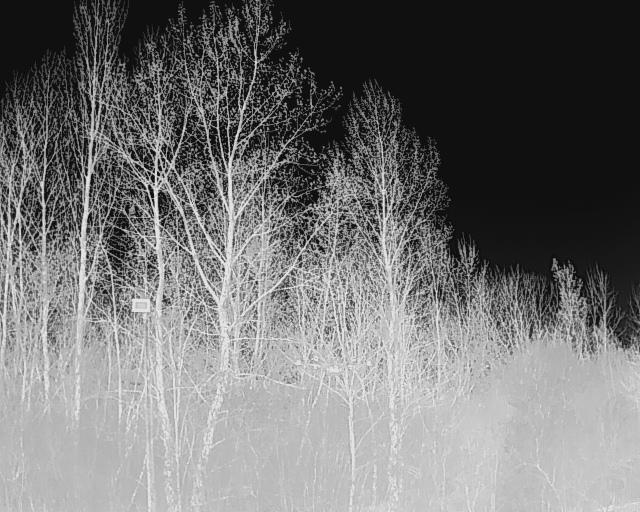drone: (289, 350, 378, 406)
